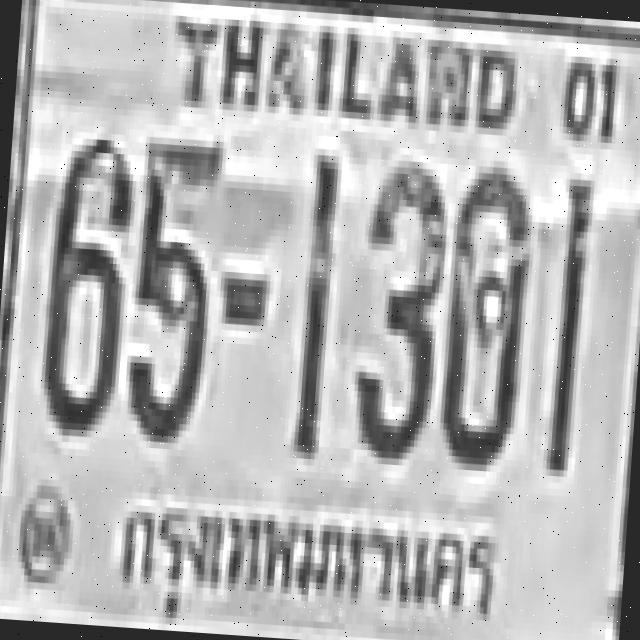0: (436, 158, 534, 460)
1: (542, 172, 591, 470), (292, 148, 338, 452), (544, 175, 589, 473)
3: (350, 155, 448, 457)
5: (122, 129, 220, 438)
6: (35, 130, 134, 432)
Bangkok: (96, 481, 508, 640)
